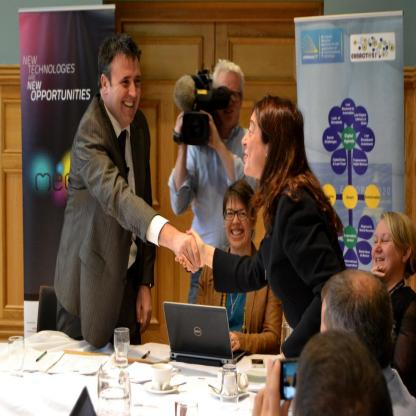board: (162, 302, 246, 368)
